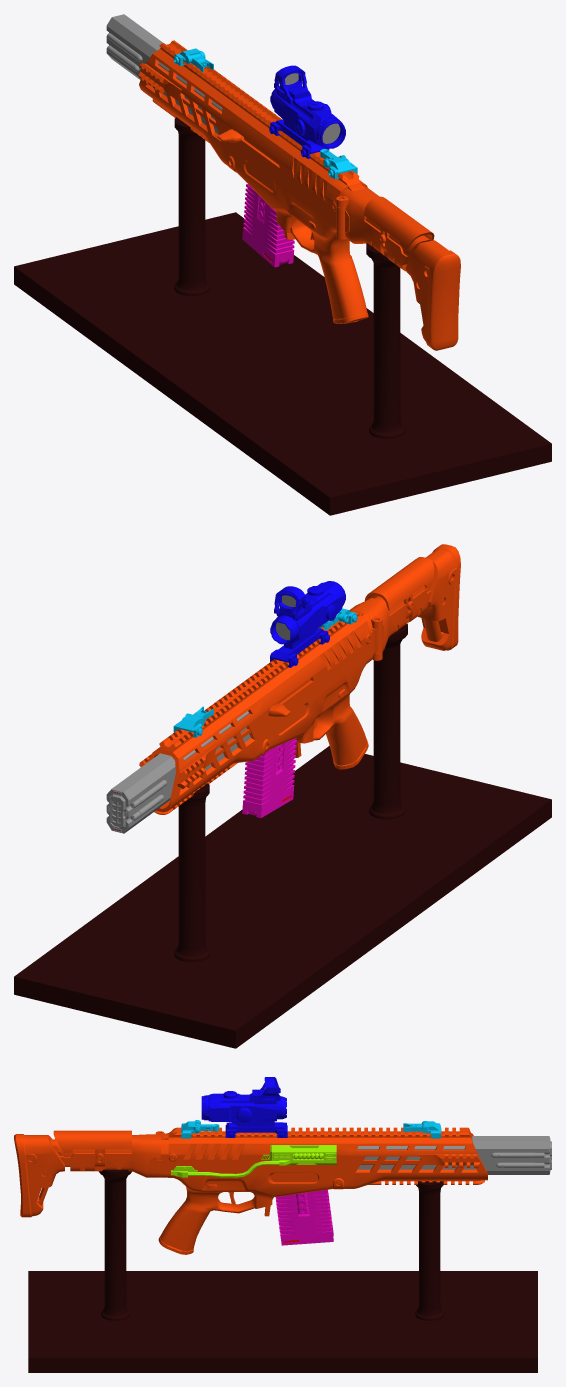
File: toSk.fbx
The picture shows the model from 3 angles, top to bottom: view 1: azimuth 30°, elevation 25°; view 2: azimuth 150°, elevation 25°; view 3: azimuth 270°, elevation 25°; orthographic projection. The views are drawn at different scales.
Visible parts, largest first — view 1: Podium001, Receiver005, HAMR002, Electric_barrel_006, Electric MAG003, Sight Down002; view 2: Podium001, Receiver005, Electric_barrel_006, HAMR002, Electric MAG003, Sight Down002; view 3: Podium001, Receiver005, Electric_barrel_006, HAMR002, Electric MAG003, Electric_Details002, Sight Down002.
Part boxes in pixels (x1,y1,x2,y2): Podium001: (14, 117, 551, 515); Receiver005: (138, 40, 460, 350); HAMR002: (269, 65, 345, 158); Electric_barrel_006: (106, 14, 222, 134); Electric MAG003: (242, 184, 294, 267); Sight Down002: (173, 48, 357, 179); Podium001: (14, 624, 551, 1048); Receiver005: (139, 544, 460, 814); Electric_barrel_006: (106, 711, 250, 833); HAMR002: (270, 581, 345, 667); Electric MAG003: (242, 737, 296, 817); Sight Down002: (173, 608, 357, 737); Podium001: (28, 1169, 537, 1372); Receiver005: (14, 1127, 487, 1254); Electric_barrel_006: (357, 1136, 551, 1174); HAMR002: (201, 1077, 287, 1137); Electric MAG003: (275, 1189, 333, 1245); Electric_Details002: (171, 1145, 336, 1177); Sight Down002: (181, 1120, 440, 1138).
Bounding box in the file's own units: 21.7 × 29.05 × 56.53.
